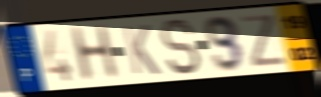4: (45, 28, 75, 85)
9: (203, 14, 248, 73)
H: (67, 23, 122, 85)
K: (120, 23, 163, 77)
S: (157, 17, 203, 77)
Z: (239, 13, 290, 70)
